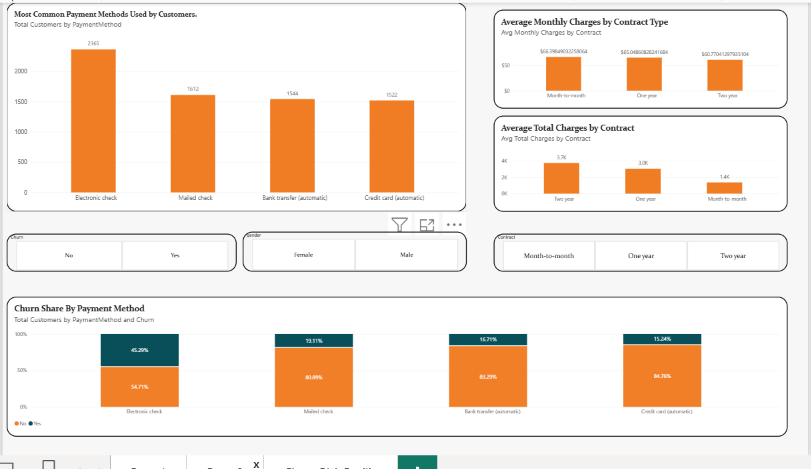

This screenshot's page, from the dashboard's own definition file:
{"tool":"powerbi","page":{"name":"Page 2","canvas":[1920,1080],"ordinal":1},"visuals":[{"type":"clusteredColumnChart","title":"Most Common Payment Methods Used by Customers.","fields":{"Category":["Data.PaymentMethod"],"Y":["Data.Total Customers"]},"box":[9.5,0,1097.5,498.7],"z":0},{"type":"clusteredColumnChart","title":"Average Monthly Charges by Contract Type","fields":{"Category":["Data.Contract"],"Y":["Data.Avg Monthly Charges"]},"box":[1171.5,16.7,701.5,236.2],"z":1},{"type":"clusteredColumnChart","title":"Average Total Charges by Contract","fields":{"Category":["Data.Contract"],"Y":["Data.Avg Total Charges"]},"box":[1171.5,269.6,701.5,229],"z":2},{"type":"slicer","fields":{"Values":["Data.Churn"]},"box":[9.5,551.1,548.8,90.7],"z":3},{"type":"slicer","fields":{"Values":["Data.gender"]},"box":[572.6,546.4,534.4,95.4],"z":4},{"type":"slicer","fields":{"Values":["Data.Contract"]},"box":[1171.5,551.1,701.5,90.7],"z":5},{"type":"hundredPercentStackedColumnChart","title":"Churn Share By Payment Method","fields":{"Category":["Data.PaymentMethod"],"Series":["Data.Churn"],"Y":["Data.Total Customers"]},"box":[9.5,701.5,1863.4,334],"z":6}]}

Visuals, with their boxes in screenshot pixels (x1, y1, x2, y2):
"Most Common Payment Methods Used by Customers." clusteredColumnChart: <bbox>8, 2, 465, 210</bbox>
"Average Monthly Charges by Contract Type" clusteredColumnChart: <bbox>492, 9, 784, 107</bbox>
"Average Total Charges by Contract" clusteredColumnChart: <bbox>492, 114, 784, 210</bbox>
slicer - Data.Churn: <bbox>8, 232, 237, 269</bbox>
slicer - Data.gender: <bbox>243, 230, 465, 269</bbox>
slicer - Data.Contract: <bbox>492, 232, 784, 269</bbox>
"Churn Share By Payment Method" hundredPercentStackedColumnChart: <bbox>8, 294, 784, 433</bbox>
